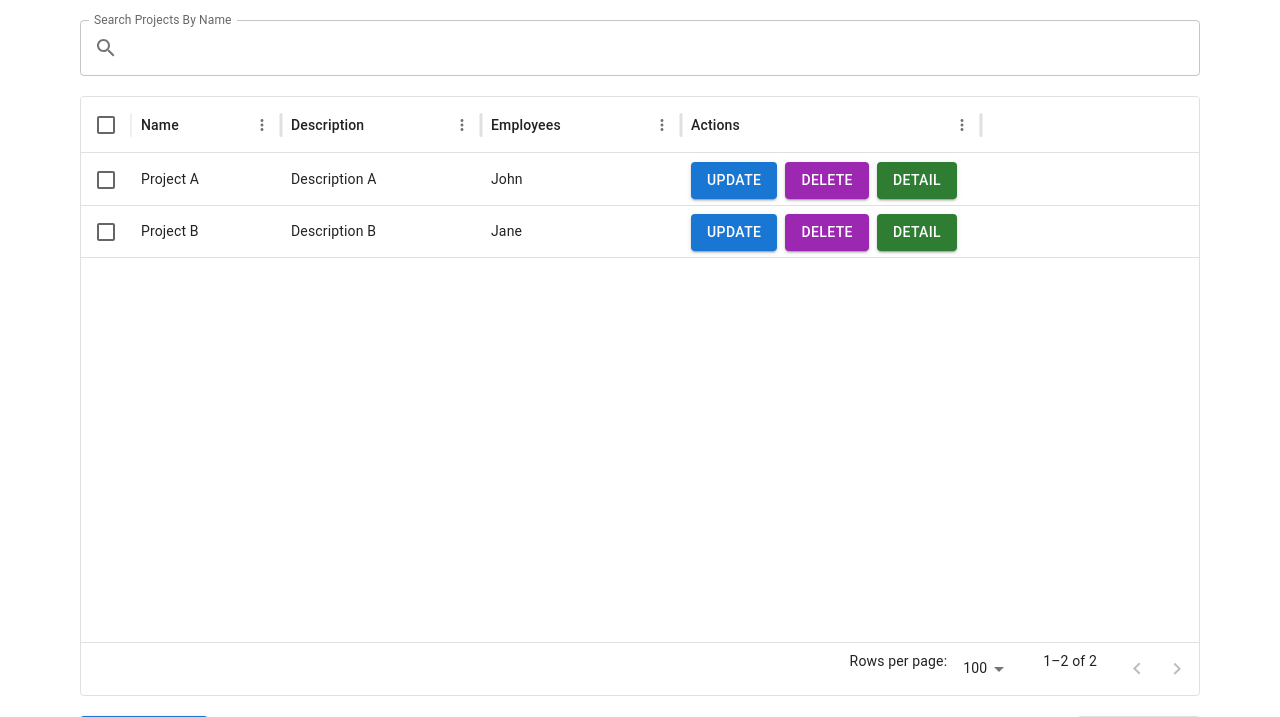
Test: ListProjectsComponent › handles dialog cancellation
Check: the text "Project A" is shown, box [141,171,199,187]
Click the button "Delete" in the row of "Project A". click: (827, 180)
box: [785,162,869,198]
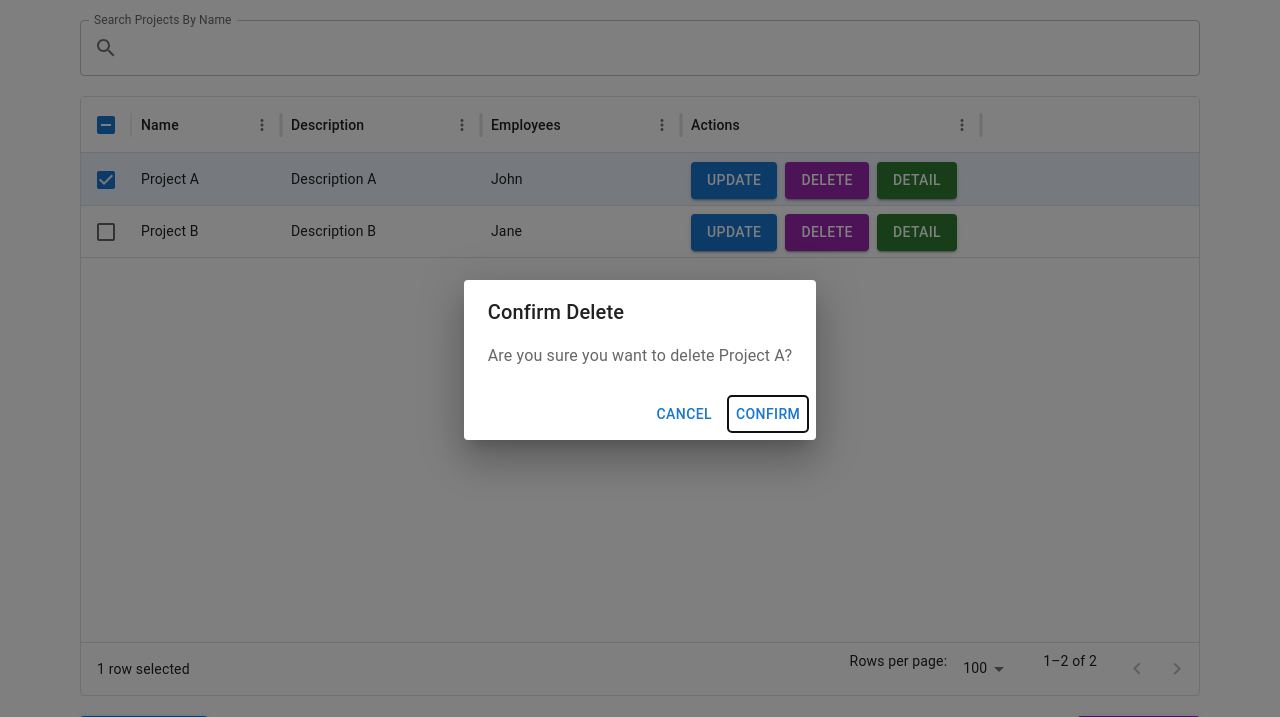
Click the button "Cancel". click: (684, 414)
box: [648,396,720,432]
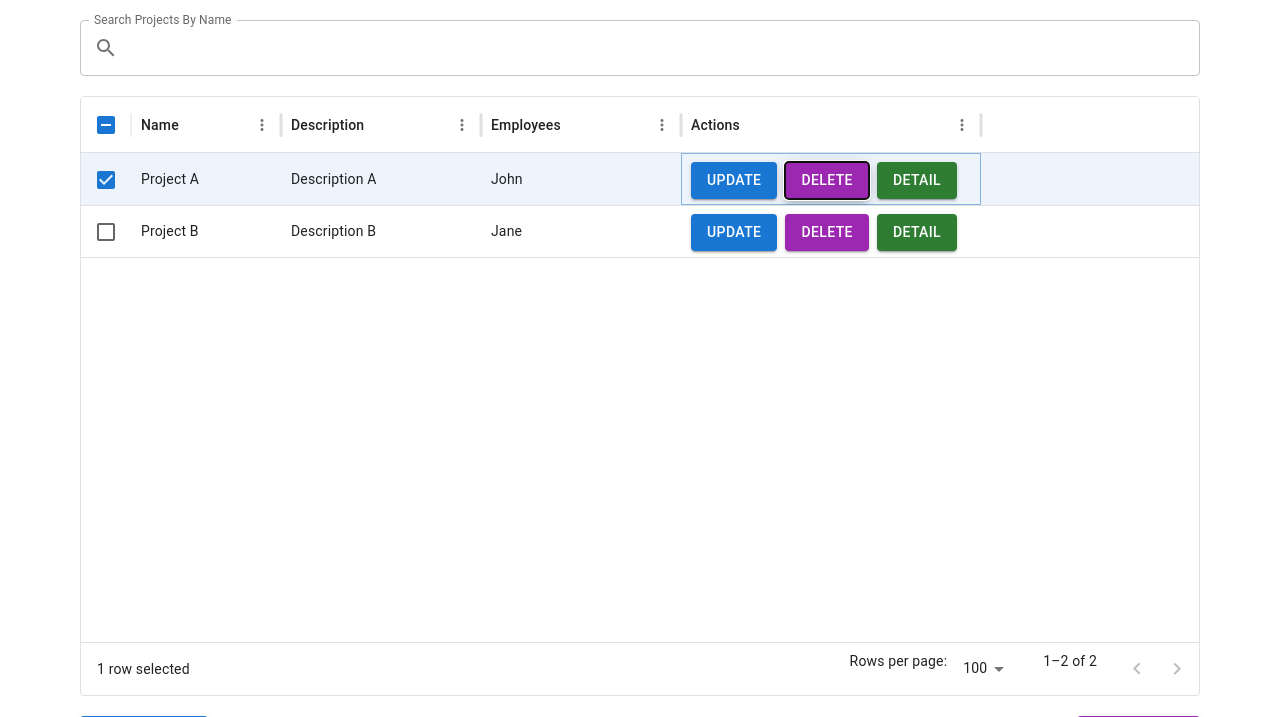
Check: the text "Are you sure you want to delete" is gone
